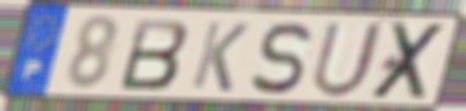8: (62, 13, 121, 94)
B: (117, 17, 192, 92)
K: (187, 19, 252, 95)
S: (247, 20, 315, 97)
U: (308, 19, 388, 100)
X: (366, 22, 451, 102)
